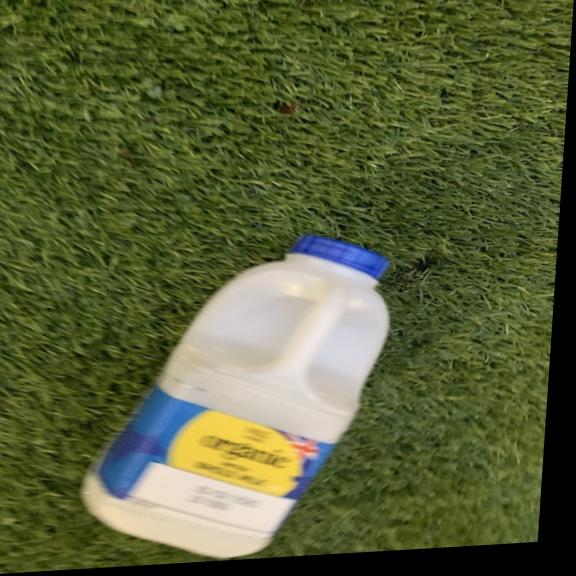Plastik: (78, 226, 399, 568)
